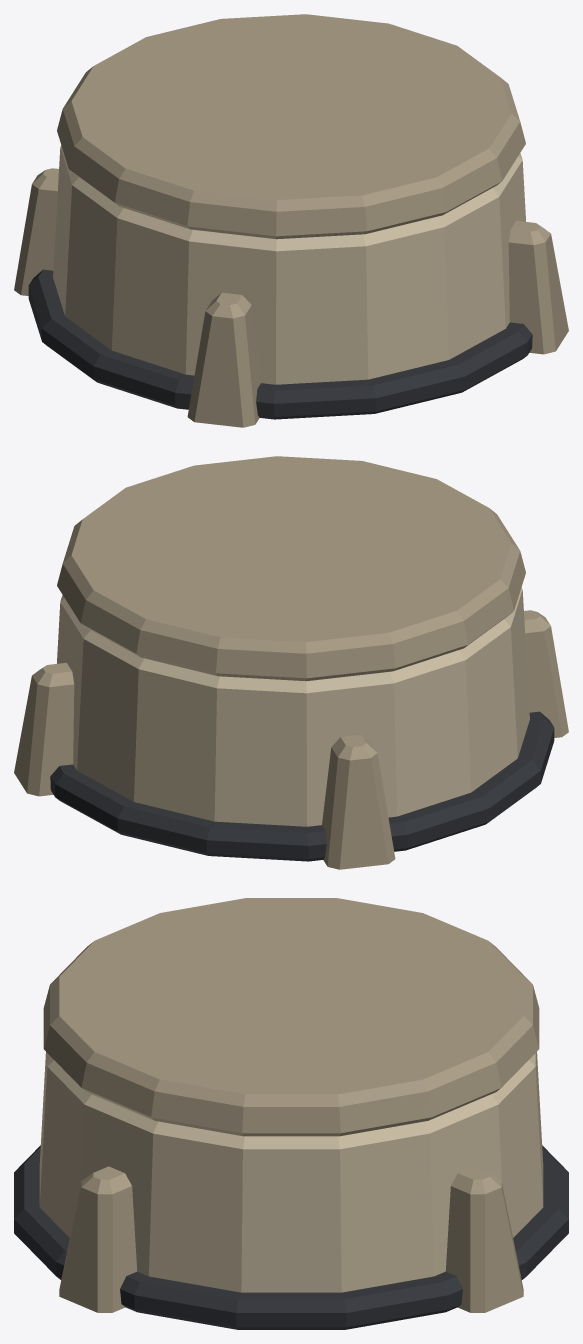
The model's file is BubbleBase.obj.
3 renders of one model, top to bottom at view 1: azimuth 30°, elevation 25°; view 2: azimuth 150°, elevation 25°; view 3: azimuth 270°, elevation 25°, orthographic. The views are drawn at different scales.
Visible parts, largest first — view 1: BubbleBase; view 2: BubbleBase; view 3: BubbleBase.
Part boxes in pixels (left/top/right/bottom): BubbleBase: left=14, top=14, right=568, bottom=427; BubbleBase: left=14, top=456, right=568, bottom=869; BubbleBase: left=14, top=898, right=568, bottom=1329.
Bounding box in the file's own units: 1.06 × 0.46 × 1.06.
